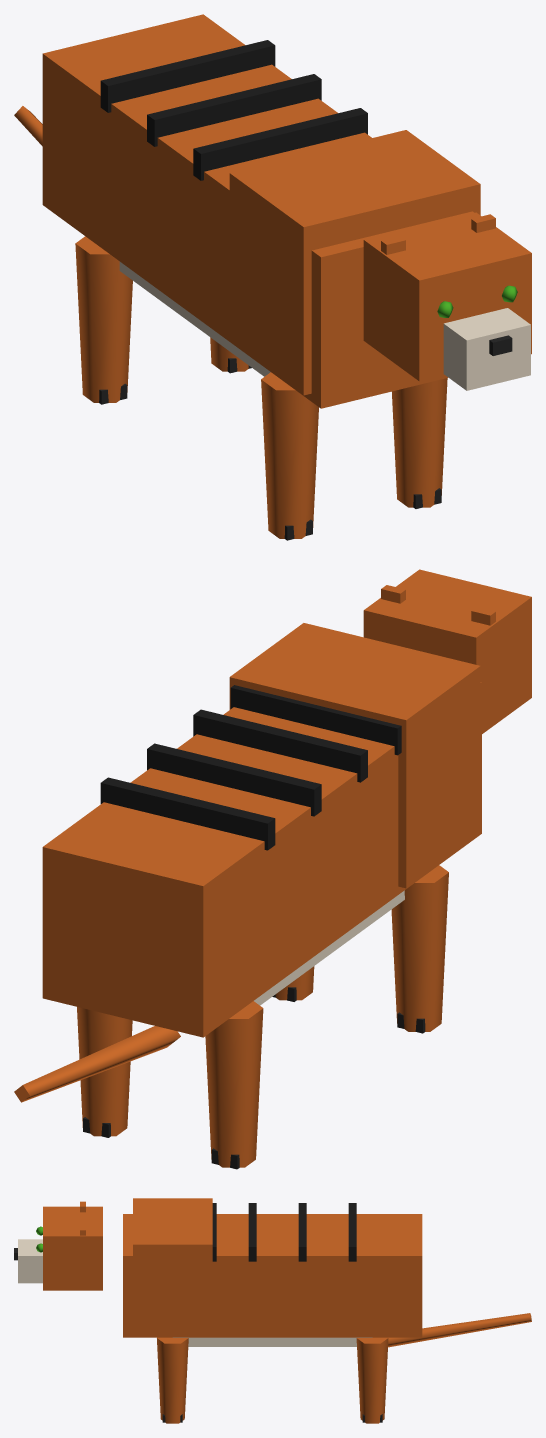
File: tiger.glb
3 renders of one model, top to bottom at view 1: azimuth 30°, elevation 25°; view 2: azimuth 150°, elevation 25°; view 3: azimuth 270°, elevation 25°, orthographic. The views are drawn at different scales.
Visible parts, largest first — view 1: Mesh_Body, Mesh_Chest, Mesh_Head, Mesh_LegFrontLeft, Mesh_LegRearLeft, Mesh_LegFrontRight, Mesh_Muzzle, Mesh_Stripe0, Mesh_Stripe1, Mesh_Stripe2, Mesh_Belly, Mesh_LegRearRight; view 2: Mesh_Body, Mesh_Chest, Mesh_Head, Mesh_LegRearLeft, Mesh_LegFrontLeft, Mesh_LegRearRight, Mesh_Stripe0, Mesh_Stripe1, Mesh_Stripe2, Mesh_Stripe3, Mesh_TailMesh, Mesh_Belly; view 3: Mesh_Body, Mesh_Chest, Mesh_Head, Mesh_LegFrontRight, Mesh_LegRearRight, Mesh_Belly, Mesh_TailMesh, Mesh_Muzzle, Mesh_Stripe0, Mesh_Stripe1, Mesh_Stripe2, Mesh_Stripe3.
Boxes of the visible parts, box(x1,y1,x2,y2) form: Mesh_Body: box(42, 14, 473, 408); Mesh_Chest: box(229, 130, 480, 395); Mesh_Head: box(363, 212, 531, 381); Mesh_LegFrontLeft: box(261, 372, 318, 538); Mesh_LegRearLeft: box(75, 236, 132, 402); Mesh_LegFrontRight: box(392, 378, 447, 507); Mesh_Muzzle: box(443, 308, 530, 390); Mesh_Stripe0: box(100, 40, 275, 112); Mesh_Stripe1: box(147, 74, 321, 146); Mesh_Stripe2: box(193, 108, 367, 180); Mesh_Belly: box(119, 261, 270, 376); Mesh_LegRearRight: box(210, 337, 248, 371); Mesh_Body: box(42, 682, 481, 1037); Mesh_Chest: box(229, 623, 480, 888); Mesh_Head: box(363, 569, 531, 733); Mesh_LegRearLeft: box(205, 1001, 263, 1167); Mesh_LegFrontLeft: box(391, 865, 448, 1031); Mesh_LegRearRight: box(77, 1007, 132, 1136); Mesh_Stripe0: box(100, 777, 275, 850); Mesh_Stripe1: box(147, 743, 321, 816); Mesh_Stripe2: box(193, 709, 367, 782); Mesh_Stripe3: box(230, 685, 401, 755); Mesh_TailMesh: box(14, 1026, 180, 1102); Mesh_Belly: box(254, 890, 404, 1005); Mesh_Body: box(123, 1214, 422, 1337); Mesh_Chest: box(133, 1198, 212, 1335); Mesh_Head: box(43, 1206, 102, 1290); Mesh_LegFrontRight: box(157, 1337, 188, 1423); Mesh_LegRearRight: box(356, 1337, 388, 1423); Mesh_Belly: box(173, 1337, 372, 1346); Mesh_TailMesh: box(388, 1313, 531, 1347); Mesh_Muzzle: box(18, 1239, 42, 1283); Mesh_Stripe0: box(348, 1203, 356, 1261); Mesh_Stripe1: box(298, 1203, 306, 1261); Mesh_Stripe2: box(248, 1203, 256, 1261); Mesh_Stripe3: box(212, 1203, 216, 1261).
Bounding box in the file's own units: 0.55 × 1.03 × 2.59.
